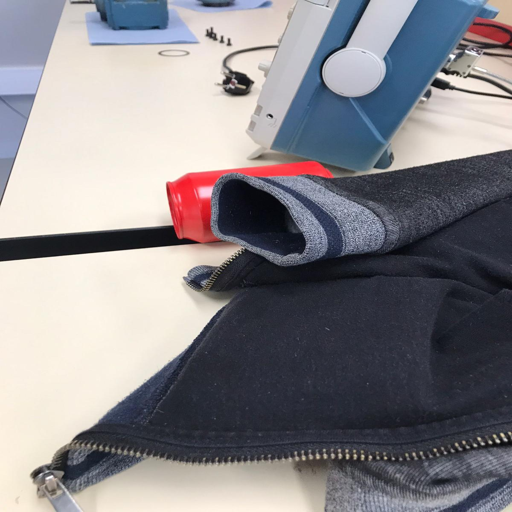Red_Can: (161, 158, 336, 244)
